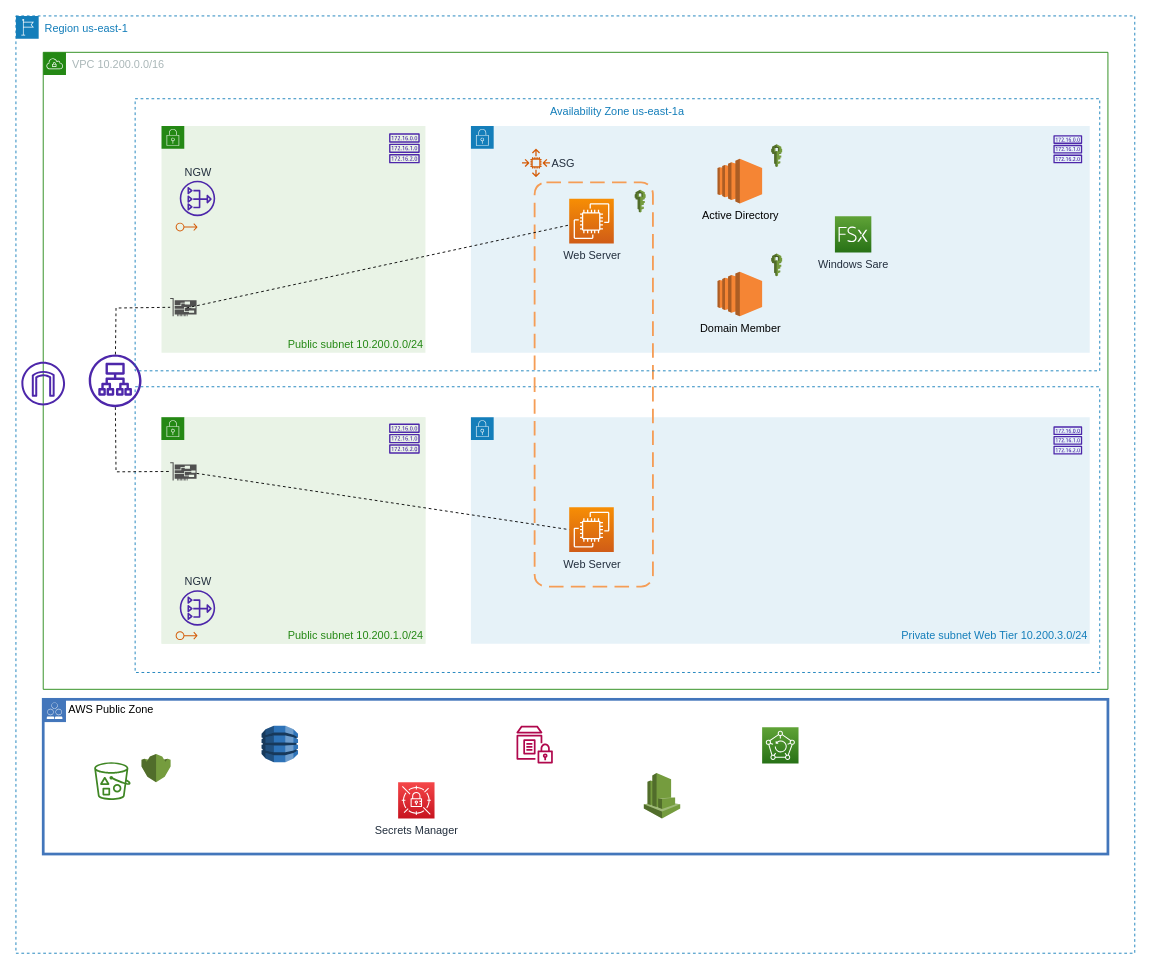
Some shapes in this 1151 by 969 pixel diagram are drawn without their labels. The shapes that lost their labels are listed below. From the top down, each one's box as (x1, y1, x2, y2) in pixels, then its label:
(470, 125, 1090, 353): Private subnet Web Tier 10.200.2.0/24
(88, 354, 141, 407): Public ALB
(134, 386, 1100, 672): Availability Zone us-east-1b
(261, 725, 298, 762): Remote tfstate lock table
(516, 725, 552, 763): Parameter Store
(761, 726, 799, 764): AWS Backups
(94, 762, 130, 800): Remote tfstate encrypted bucket
(643, 772, 680, 819): Cloudwatch Monitoring & Alerting
